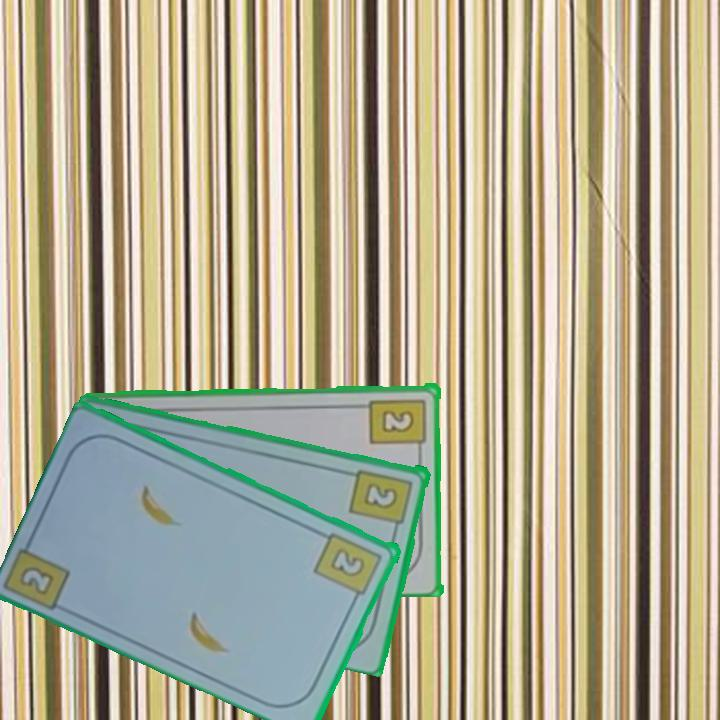2b: (311, 529, 386, 605), (347, 465, 416, 536), (368, 395, 429, 456), (16, 562, 58, 599)
